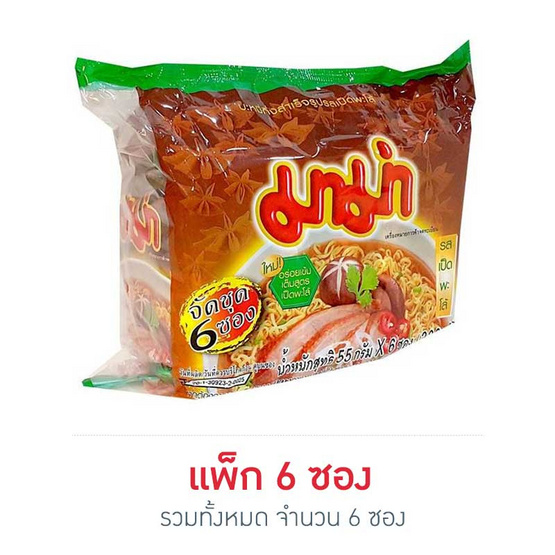Snack: (48, 33, 480, 402)
